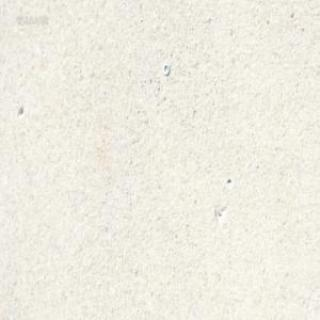Washertrack_idkeyframe: (162, 61, 168, 74)
